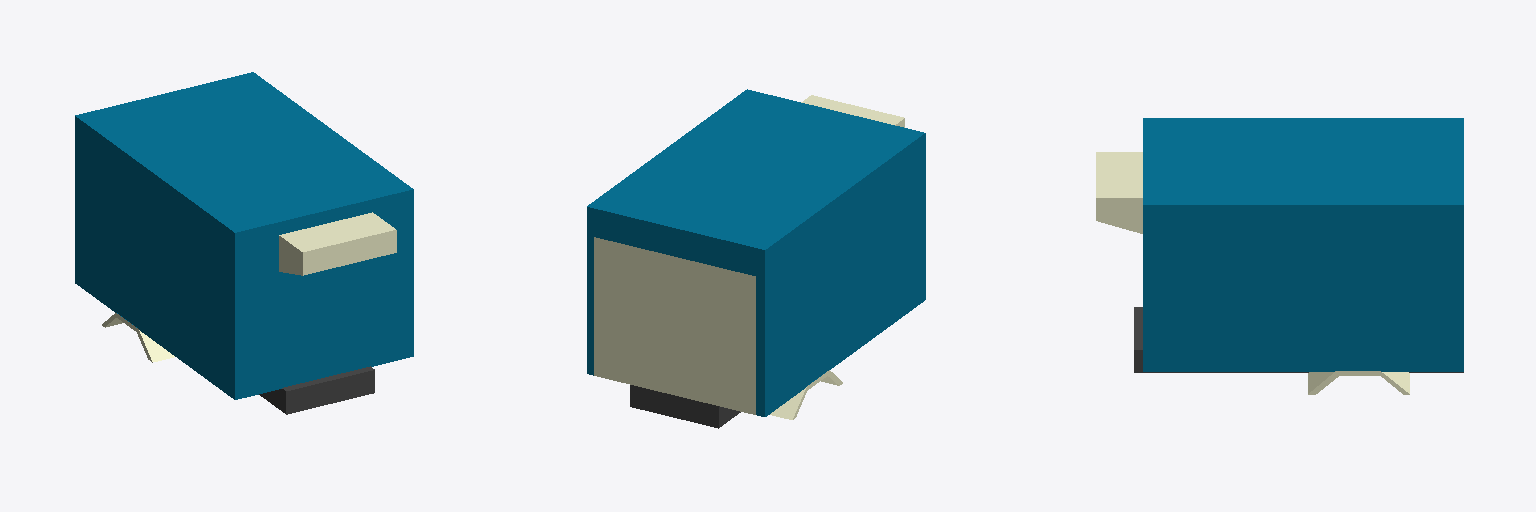
The model's file is budka.obj.
3 renders of one model, left to right at view 1: azimuth 30°, elevation 25°; view 2: azimuth 150°, elevation 25°; view 3: azimuth 270°, elevation 25°, orthographic.
Visible parts, largest first — view 1: Budka; view 2: Budka; view 3: Budka.
Boxes of the visible parts, x1,y1,x2,y2 form: Budka: [75, 72, 413, 414]; Budka: [587, 89, 925, 428]; Budka: [1096, 118, 1463, 394].
Bounding box in the file's own units: 83.3 × 84.36 × 148.